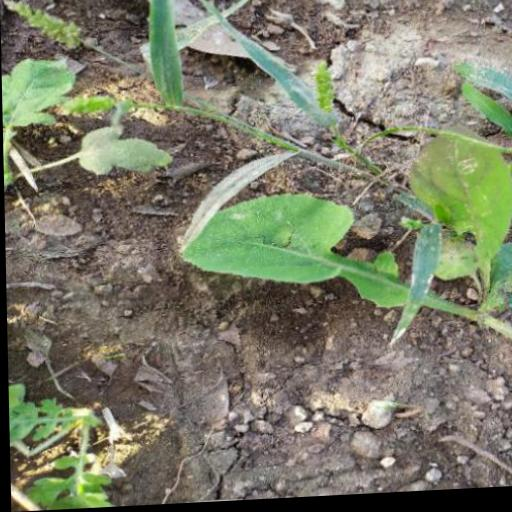weed: (171, 77, 512, 411), (1, 28, 159, 236), (6, 349, 154, 512)
